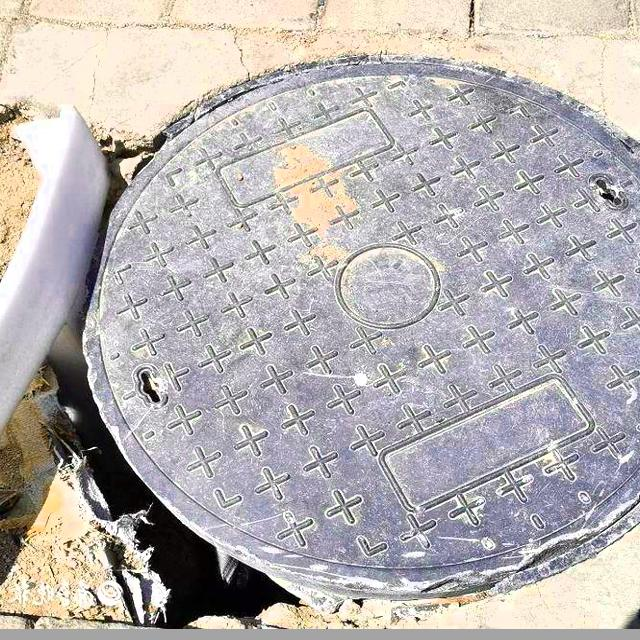circle: (0, 58, 640, 611)
